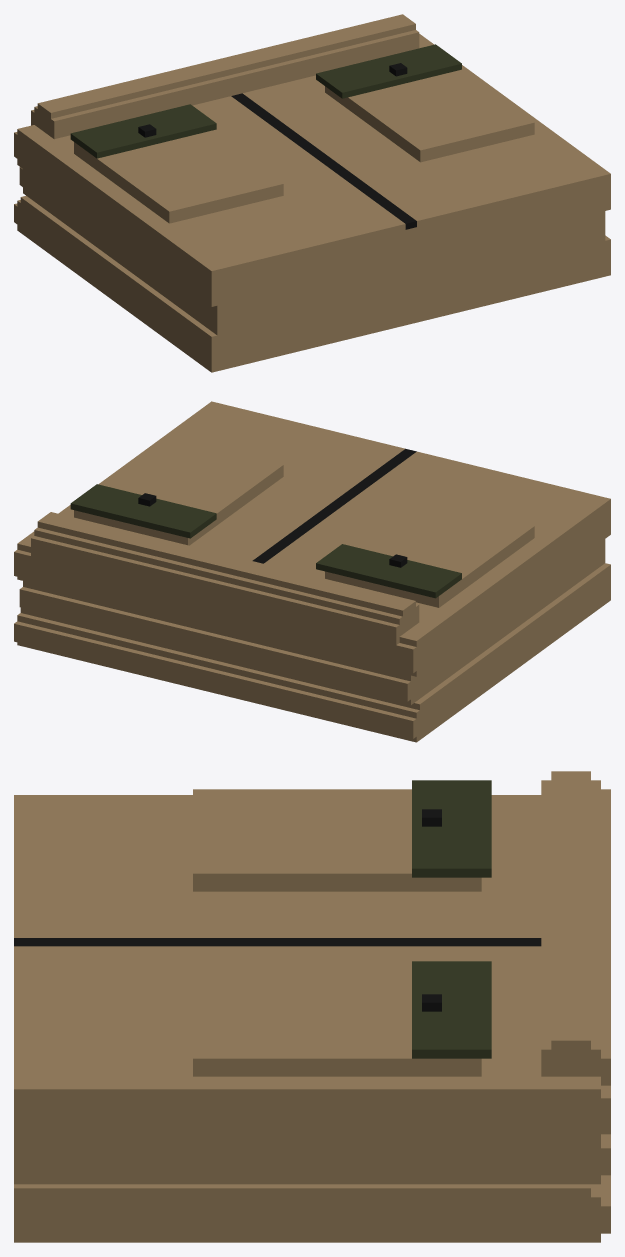
The model's file is jacket_eod_light.glb.
3 renders of one model, top to bottom at view 1: azimuth 30°, elevation 25°; view 2: azimuth 150°, elevation 25°; view 3: azimuth 270°, elevation 25°, orthographic. The views are drawn at different scales.
Visible parts, largest first — view 1: jacket_eod_light:compound; view 2: jacket_eod_light:compound; view 3: jacket_eod_light:compound.
Part boxes in pixels (<box>): jacket_eod_light:compound: <box>14,14,610,372</box>; jacket_eod_light:compound: <box>14,401,610,742</box>; jacket_eod_light:compound: <box>14,771,610,1242</box>.
Bounding box in the file's own units: 0.42 × 0.126 × 0.36.
